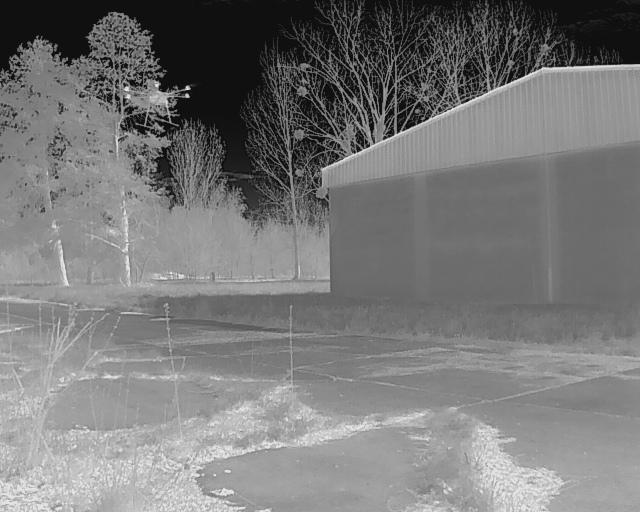drone: (110, 75, 199, 141)
